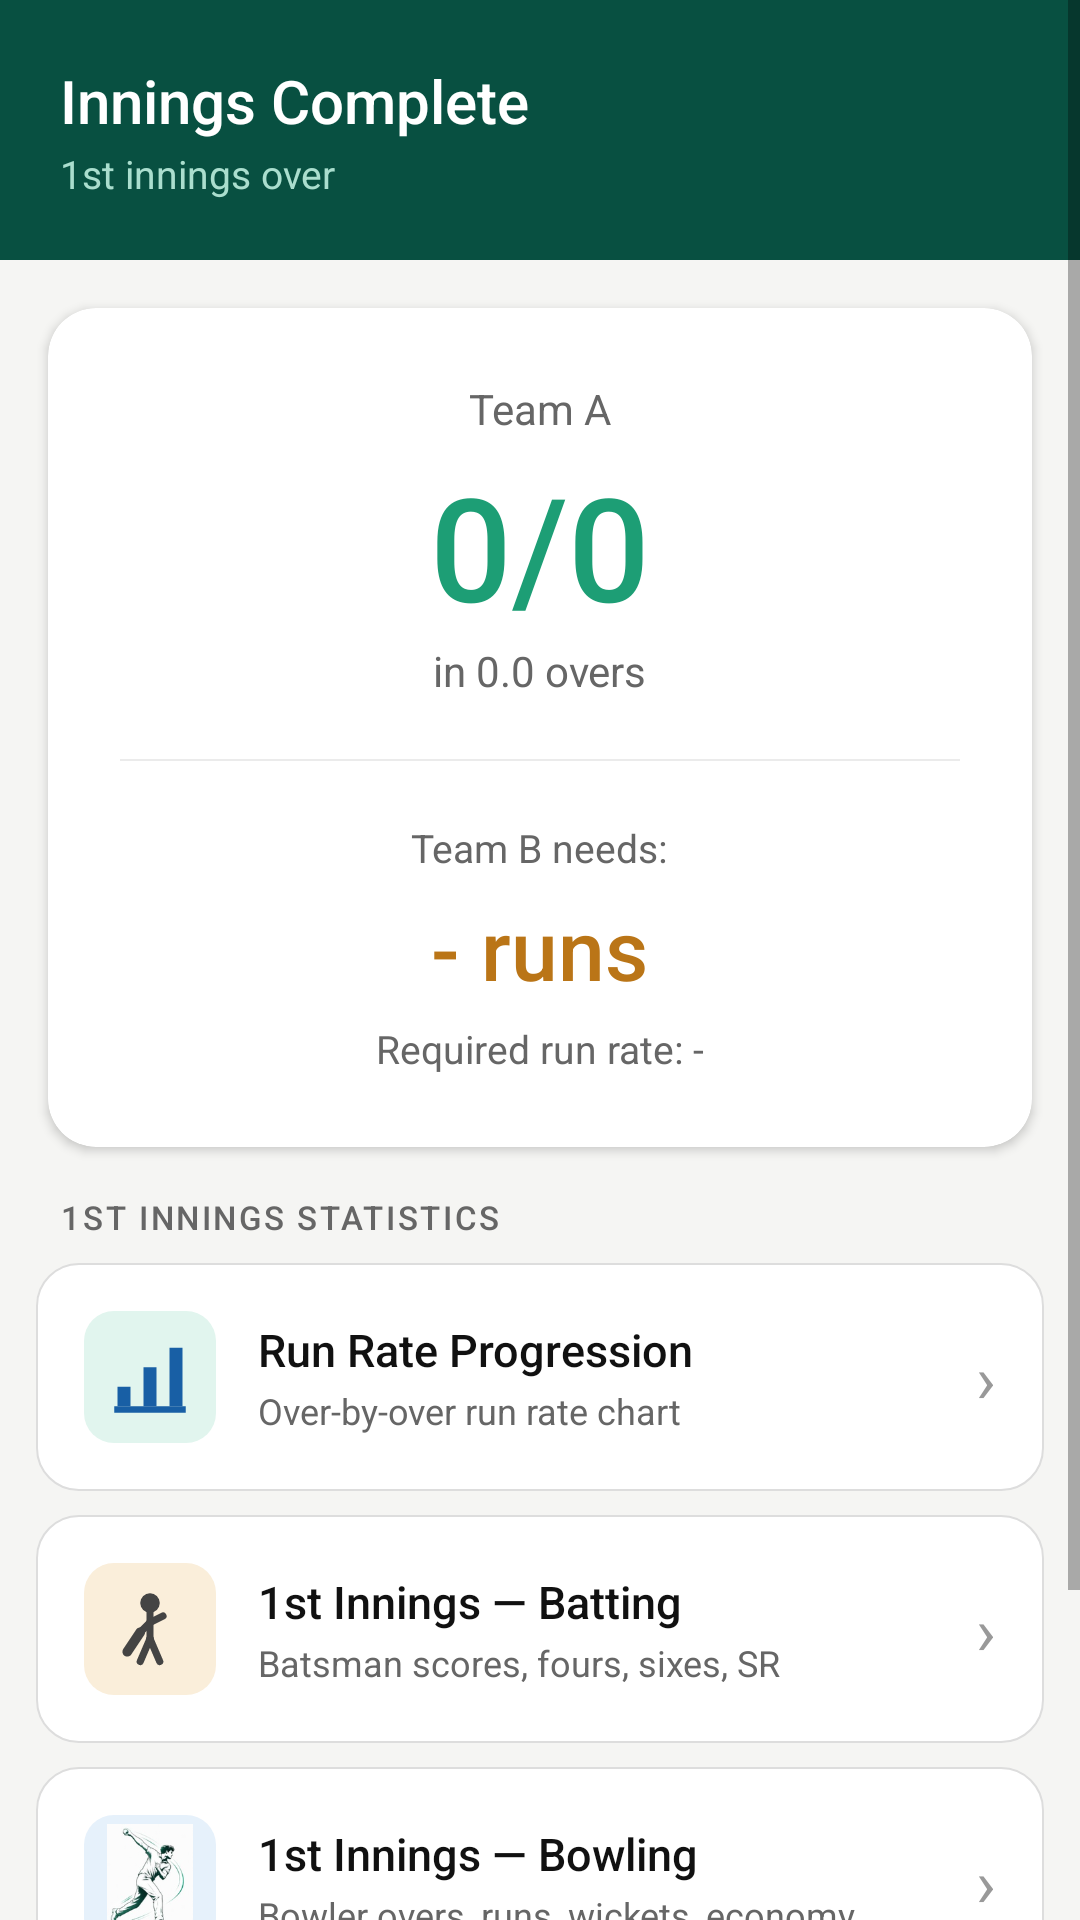

Where icons sit on this 1080px×1920px app screen, as (x1, y1, x2, y2):
Batting stats: (122, 1593, 167, 1666)
Run rate graph: (114, 1347, 186, 1413)
